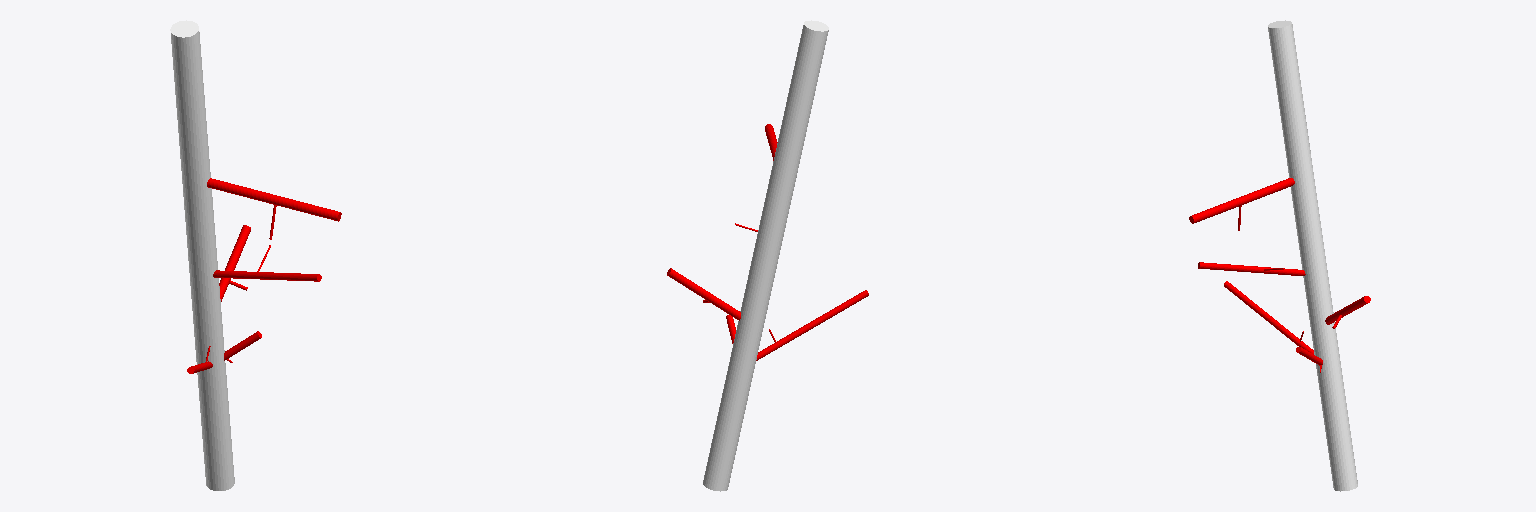
URDF robot description (tree_198.urdf):
<?xml version='1.0' encoding='UTF-8'?>
<robot name="tree_198.urdf">
  <link name="branch_0">
    <inertial>
      <origin xyz="0.0 0.0 0.0" rpy="0.0 -0.0 0.0"/>
      <mass value="0.1"/>
      <inertia ixx="0.001" ixy="0.0" ixz="0.0" iyy="0.001" iyz="0.0" izz="0.001"/>
    </inertial>
    <visual name="branch_0_visual">
      <geometry>
        <cylinder radius="0.17538878558054039" length="6.8355803082487325"/>
      </geometry>
      <material name="branch_material"/>
      <origin xyz="-0.5171860347679501 -0.4631339765583981 3.346537772508727" rpy="0.0 0.2045499557492345 -2.411275874452997"/>
    </visual>
    <collision name="branch_0_collision">
      <geometry>
        <cylinder radius="0.17538878558054039" length="6.8355803082487325"/>
      </geometry>
      <origin xyz="-0.5171860347679501 -0.4631339765583981 3.346537772508727" rpy="0.0 0.2045499557492345 -2.411275874452997"/>
    </collision>
  </link>
  <link name="branch_1">
    <inertial>
      <origin xyz="0.0 0.0 0.0" rpy="0.0 -0.0 0.0"/>
      <mass value="0.1"/>
      <inertia ixx="0.001" ixy="0.0" ixz="0.0" iyy="0.001" iyz="0.0" izz="0.001"/>
    </inertial>
    <visual name="branch_1_visual">
      <geometry>
        <cylinder radius="0.04562387704762052" length="1.8232083659894216"/>
      </geometry>
      <material name="semantic_material"/>
      <origin xyz="0.0 0.0 0.0" rpy="0.0 -0.0 0.0"/>
    </visual>
    <collision name="branch_1_collision">
      <geometry>
        <cylinder radius="0.04562387704762052" length="1.8232083659894216"/>
      </geometry>
      <origin xyz="0.0 0.0 0.0" rpy="0.0 -0.0 0.0"/>
    </collision>
  </link>
  <link name="branch_2">
    <inertial>
      <origin xyz="0.0 0.0 0.0" rpy="0.0 -0.0 0.0"/>
      <mass value="0.1"/>
      <inertia ixx="0.001" ixy="0.0" ixz="0.0" iyy="0.001" iyz="0.0" izz="0.001"/>
    </inertial>
    <visual name="branch_2_visual">
      <geometry>
        <cylinder radius="0.012477958954819094" length="0.5130282079871358"/>
      </geometry>
      <material name="semantic_material"/>
      <origin xyz="0.0 0.0 0.0" rpy="0.0 -0.0 0.0"/>
    </visual>
    <collision name="branch_2_collision">
      <geometry>
        <cylinder radius="0.012477958954819094" length="0.5130282079871358"/>
      </geometry>
      <origin xyz="0.0 0.0 0.0" rpy="0.0 -0.0 0.0"/>
    </collision>
  </link>
  <link name="branch_3">
    <inertial>
      <origin xyz="0.0 0.0 0.0" rpy="0.0 -0.0 0.0"/>
      <mass value="0.1"/>
      <inertia ixx="0.001" ixy="0.0" ixz="0.0" iyy="0.001" iyz="0.0" izz="0.001"/>
    </inertial>
    <visual name="branch_3_visual">
      <geometry>
        <cylinder radius="0.05923715603853511" length="1.9078020762535675"/>
      </geometry>
      <material name="semantic_material"/>
      <origin xyz="0.0 0.0 0.0" rpy="0.0 -0.0 0.0"/>
    </visual>
    <collision name="branch_3_collision">
      <geometry>
        <cylinder radius="0.05923715603853511" length="1.9078020762535675"/>
      </geometry>
      <origin xyz="0.0 0.0 0.0" rpy="0.0 -0.0 0.0"/>
    </collision>
  </link>
  <link name="branch_4">
    <inertial>
      <origin xyz="0.0 0.0 0.0" rpy="0.0 -0.0 0.0"/>
      <mass value="0.1"/>
      <inertia ixx="0.001" ixy="0.0" ixz="0.0" iyy="0.001" iyz="0.0" izz="0.001"/>
    </inertial>
    <visual name="branch_4_visual">
      <geometry>
        <cylinder radius="0.01685342340414875" length="0.49975662723734865"/>
      </geometry>
      <material name="semantic_material"/>
      <origin xyz="0.0 0.0 0.0" rpy="0.0 -0.0 0.0"/>
    </visual>
    <collision name="branch_4_collision">
      <geometry>
        <cylinder radius="0.01685342340414875" length="0.49975662723734865"/>
      </geometry>
      <origin xyz="0.0 0.0 0.0" rpy="0.0 -0.0 0.0"/>
    </collision>
  </link>
  <link name="branch_5">
    <inertial>
      <origin xyz="0.0 0.0 0.0" rpy="0.0 -0.0 0.0"/>
      <mass value="0.1"/>
      <inertia ixx="0.001" ixy="0.0" ixz="0.0" iyy="0.001" iyz="0.0" izz="0.001"/>
    </inertial>
    <visual name="branch_5_visual">
      <geometry>
        <cylinder radius="0.04671824255031454" length="0.7713784806323545"/>
      </geometry>
      <material name="semantic_material"/>
      <origin xyz="0.0 0.0 0.0" rpy="0.0 -0.0 0.0"/>
    </visual>
    <collision name="branch_5_collision">
      <geometry>
        <cylinder radius="0.04671824255031454" length="0.7713784806323545"/>
      </geometry>
      <origin xyz="0.0 0.0 0.0" rpy="0.0 -0.0 0.0"/>
    </collision>
  </link>
  <link name="branch_6">
    <inertial>
      <origin xyz="0.0 0.0 0.0" rpy="0.0 -0.0 0.0"/>
      <mass value="0.1"/>
      <inertia ixx="0.001" ixy="0.0" ixz="0.0" iyy="0.001" iyz="0.0" izz="0.001"/>
    </inertial>
    <visual name="branch_6_visual">
      <geometry>
        <cylinder radius="0.011982535516990248" length="0.15341649407650904"/>
      </geometry>
      <material name="semantic_material"/>
      <origin xyz="0.0 0.0 0.0" rpy="0.0 -0.0 0.0"/>
    </visual>
    <collision name="branch_6_collision">
      <geometry>
        <cylinder radius="0.011982535516990248" length="0.15341649407650904"/>
      </geometry>
      <origin xyz="0.0 0.0 0.0" rpy="0.0 -0.0 0.0"/>
    </collision>
  </link>
  <link name="branch_7">
    <inertial>
      <origin xyz="0.0 0.0 0.0" rpy="0.0 -0.0 0.0"/>
      <mass value="0.1"/>
      <inertia ixx="0.001" ixy="0.0" ixz="0.0" iyy="0.001" iyz="0.0" izz="0.001"/>
    </inertial>
    <visual name="branch_7_visual">
      <geometry>
        <cylinder radius="0.04510108791694422" length="1.9813054658287228"/>
      </geometry>
      <material name="semantic_material"/>
      <origin xyz="0.0 0.0 0.0" rpy="0.0 -0.0 0.0"/>
    </visual>
    <collision name="branch_7_collision">
      <geometry>
        <cylinder radius="0.04510108791694422" length="1.9813054658287228"/>
      </geometry>
      <origin xyz="0.0 0.0 0.0" rpy="0.0 -0.0 0.0"/>
    </collision>
  </link>
  <link name="branch_8">
    <inertial>
      <origin xyz="0.0 0.0 0.0" rpy="0.0 -0.0 0.0"/>
      <mass value="0.1"/>
      <inertia ixx="0.001" ixy="0.0" ixz="0.0" iyy="0.001" iyz="0.0" izz="0.001"/>
    </inertial>
    <visual name="branch_8_visual">
      <geometry>
        <cylinder radius="0.010729913579497598" length="0.253327953282501"/>
      </geometry>
      <material name="semantic_material"/>
      <origin xyz="0.0 0.0 0.0" rpy="0.0 -0.0 0.0"/>
    </visual>
    <collision name="branch_8_collision">
      <geometry>
        <cylinder radius="0.010729913579497598" length="0.253327953282501"/>
      </geometry>
      <origin xyz="0.0 0.0 0.0" rpy="0.0 -0.0 0.0"/>
    </collision>
  </link>
  <link name="branch_9">
    <inertial>
      <origin xyz="0.0 0.0 0.0" rpy="0.0 -0.0 0.0"/>
      <mass value="0.1"/>
      <inertia ixx="0.001" ixy="0.0" ixz="0.0" iyy="0.001" iyz="0.0" izz="0.001"/>
    </inertial>
    <visual name="branch_9_visual">
      <geometry>
        <cylinder radius="0.05544252962635095" length="1.3703476316142555"/>
      </geometry>
      <material name="semantic_material"/>
      <origin xyz="0.0 0.0 0.0" rpy="0.0 -0.0 0.0"/>
    </visual>
    <collision name="branch_9_collision">
      <geometry>
        <cylinder radius="0.05544252962635095" length="1.3703476316142555"/>
      </geometry>
      <origin xyz="0.0 0.0 0.0" rpy="0.0 -0.0 0.0"/>
    </collision>
  </link>
  <link name="branch_10">
    <inertial>
      <origin xyz="0.0 0.0 0.0" rpy="0.0 -0.0 0.0"/>
      <mass value="0.1"/>
      <inertia ixx="0.001" ixy="0.0" ixz="0.0" iyy="0.001" iyz="0.0" izz="0.001"/>
    </inertial>
    <visual name="branch_10_visual">
      <geometry>
        <cylinder radius="0.021974469036838366" length="0.2916982704077955"/>
      </geometry>
      <material name="semantic_material"/>
      <origin xyz="0.0 0.0 0.0" rpy="0.0 -0.0 0.0"/>
    </visual>
    <collision name="branch_10_collision">
      <geometry>
        <cylinder radius="0.021974469036838366" length="0.2916982704077955"/>
      </geometry>
      <origin xyz="0.0 0.0 0.0" rpy="0.0 -0.0 0.0"/>
    </collision>
  </link>
  <joint name="joint_0_1" type="fixed">
    <parent link="branch_0"/>
    <child link="branch_1"/>
    <axis xyz="1. 0. 0."/>
    <origin xyz="-0.1411543246513569 -1.2446386565015348 3.309331143671195" rpy="0.67215600510835 1.252352201242037 -0.4836803401333414"/>
  </joint>
  <joint name="joint_0_3" type="fixed">
    <parent link="branch_0"/>
    <child link="branch_3"/>
    <axis xyz="1. 0. 0."/>
    <origin xyz="-0.1364957096114692 -1.3921093225207466 4.40800655467409" rpy="1.9103698885759428 1.3552367578881566 0.9553824847127717"/>
  </joint>
  <joint name="joint_0_5" type="fixed">
    <parent link="branch_0"/>
    <child link="branch_5"/>
    <axis xyz="1. 0. 0."/>
    <origin xyz="-0.04996732137492185 -0.4519456366903524 1.978557125606748" rpy="0.3114049508357518 0.868639434451904 -0.3673056710103251"/>
  </joint>
  <joint name="joint_0_7" type="fixed">
    <parent link="branch_0"/>
    <child link="branch_7"/>
    <axis xyz="1. 0. 0."/>
    <origin xyz="-0.829299532818088 -0.9647009655796162 2.1297337342878797" rpy="0.10589720922905237 1.1723023558282717 -2.114433027763658"/>
  </joint>
  <joint name="joint_0_9" type="fixed">
    <parent link="branch_0"/>
    <child link="branch_9"/>
    <axis xyz="1. 0. 0."/>
    <origin xyz="0.09105425305211622 -0.01416855230388562 2.767145890616217" rpy="0.03935318628606146 0.9390607138303739 0.6498180080066039"/>
  </joint>
  <joint name="joint_1_2" type="fixed">
    <parent link="branch_0"/>
    <child link="branch_2"/>
    <axis xyz="1. 0. 0."/>
    <origin xyz="0.013077179971620828 -1.0212984685486248 3.3864727616156887" rpy="1.1592389476957887 0.31543604099587036 2.113207096316839"/>
  </joint>
  <joint name="joint_3_4" type="fixed">
    <parent link="branch_0"/>
    <child link="branch_4"/>
    <axis xyz="1. 0. 0."/>
    <origin xyz="-0.11882951925463059 -1.4895943319530958 4.154760731626321" rpy="-2.970563765009423 -0.06675457987034056 2.1946802688832165"/>
  </joint>
  <joint name="joint_5_6" type="fixed">
    <parent link="branch_0"/>
    <child link="branch_6"/>
    <axis xyz="1. 0. 0."/>
    <origin xyz="-0.09838315461177258 -0.35435824181059505 1.8134380238576016" rpy="2.6162218023169412 0.7158936470940094 2.336079261694459"/>
  </joint>
  <joint name="joint_7_8" type="fixed">
    <parent link="branch_0"/>
    <child link="branch_8"/>
    <axis xyz="1. 0. 0."/>
    <origin xyz="-0.5384390267402654 -0.621611468204854 2.0773475010557267" rpy="0.16009986319101707 0.4050799032170314 0.9139007633233454"/>
  </joint>
  <joint name="joint_9_10" type="fixed">
    <parent link="branch_0"/>
    <child link="branch_10"/>
    <axis xyz="1. 0. 0."/>
    <origin xyz="0.1591829702862809 -0.10896876605249617 2.6617233505730464" rpy="-2.1573659372574943 0.6787138742468257 -2.4552754638706125"/>
  </joint>
  <material name="branch_material">
    <color rgba="1. 1. 1. 1."/>
  </material>
  <material name="semantic_material">
    <color rgba="1. 0. 0. 1."/>
  </material>
</robot>

--- Facts derived from the render (not from the file) ---
Views: 3 orthographic renders of the robot side by side, from view 1: azimuth 30°, elevation 25°; view 2: azimuth 150°, elevation 25°; view 3: azimuth 270°, elevation 25°.
Robot: tree_198.urdf — 11 links, 10 joints (10 fixed); root link branch_0; default pose: all joints at 0.
Links seen in each view (by area): view 1: branch_0, branch_3, branch_1, branch_9; view 2: branch_0, branch_7, branch_9; view 3: branch_0, branch_3, branch_7, branch_1.
Boxes of the visible links, x1=… form: branch_0: x1=170, y1=20, x2=234, y2=490; branch_3: x1=207, y1=178, x2=341, y2=221; branch_1: x1=213, y1=270, x2=321, y2=281; branch_9: x1=219, y1=225, x2=250, y2=301; branch_0: x1=703, y1=20, x2=828, y2=491; branch_7: x1=756, y1=290, x2=868, y2=360; branch_9: x1=667, y1=268, x2=740, y2=320; branch_0: x1=1268, y1=20, x2=1357, y2=491; branch_3: x1=1189, y1=178, x2=1294, y2=223; branch_7: x1=1224, y1=281, x2=1313, y2=353; branch_1: x1=1198, y1=262, x2=1305, y2=275.
Bounding box of the posed robot: 2.01 × 2.55 × 6.76 m (x, y, z).
Geometry: primitives only (box / cylinder / sphere), no mesh files.